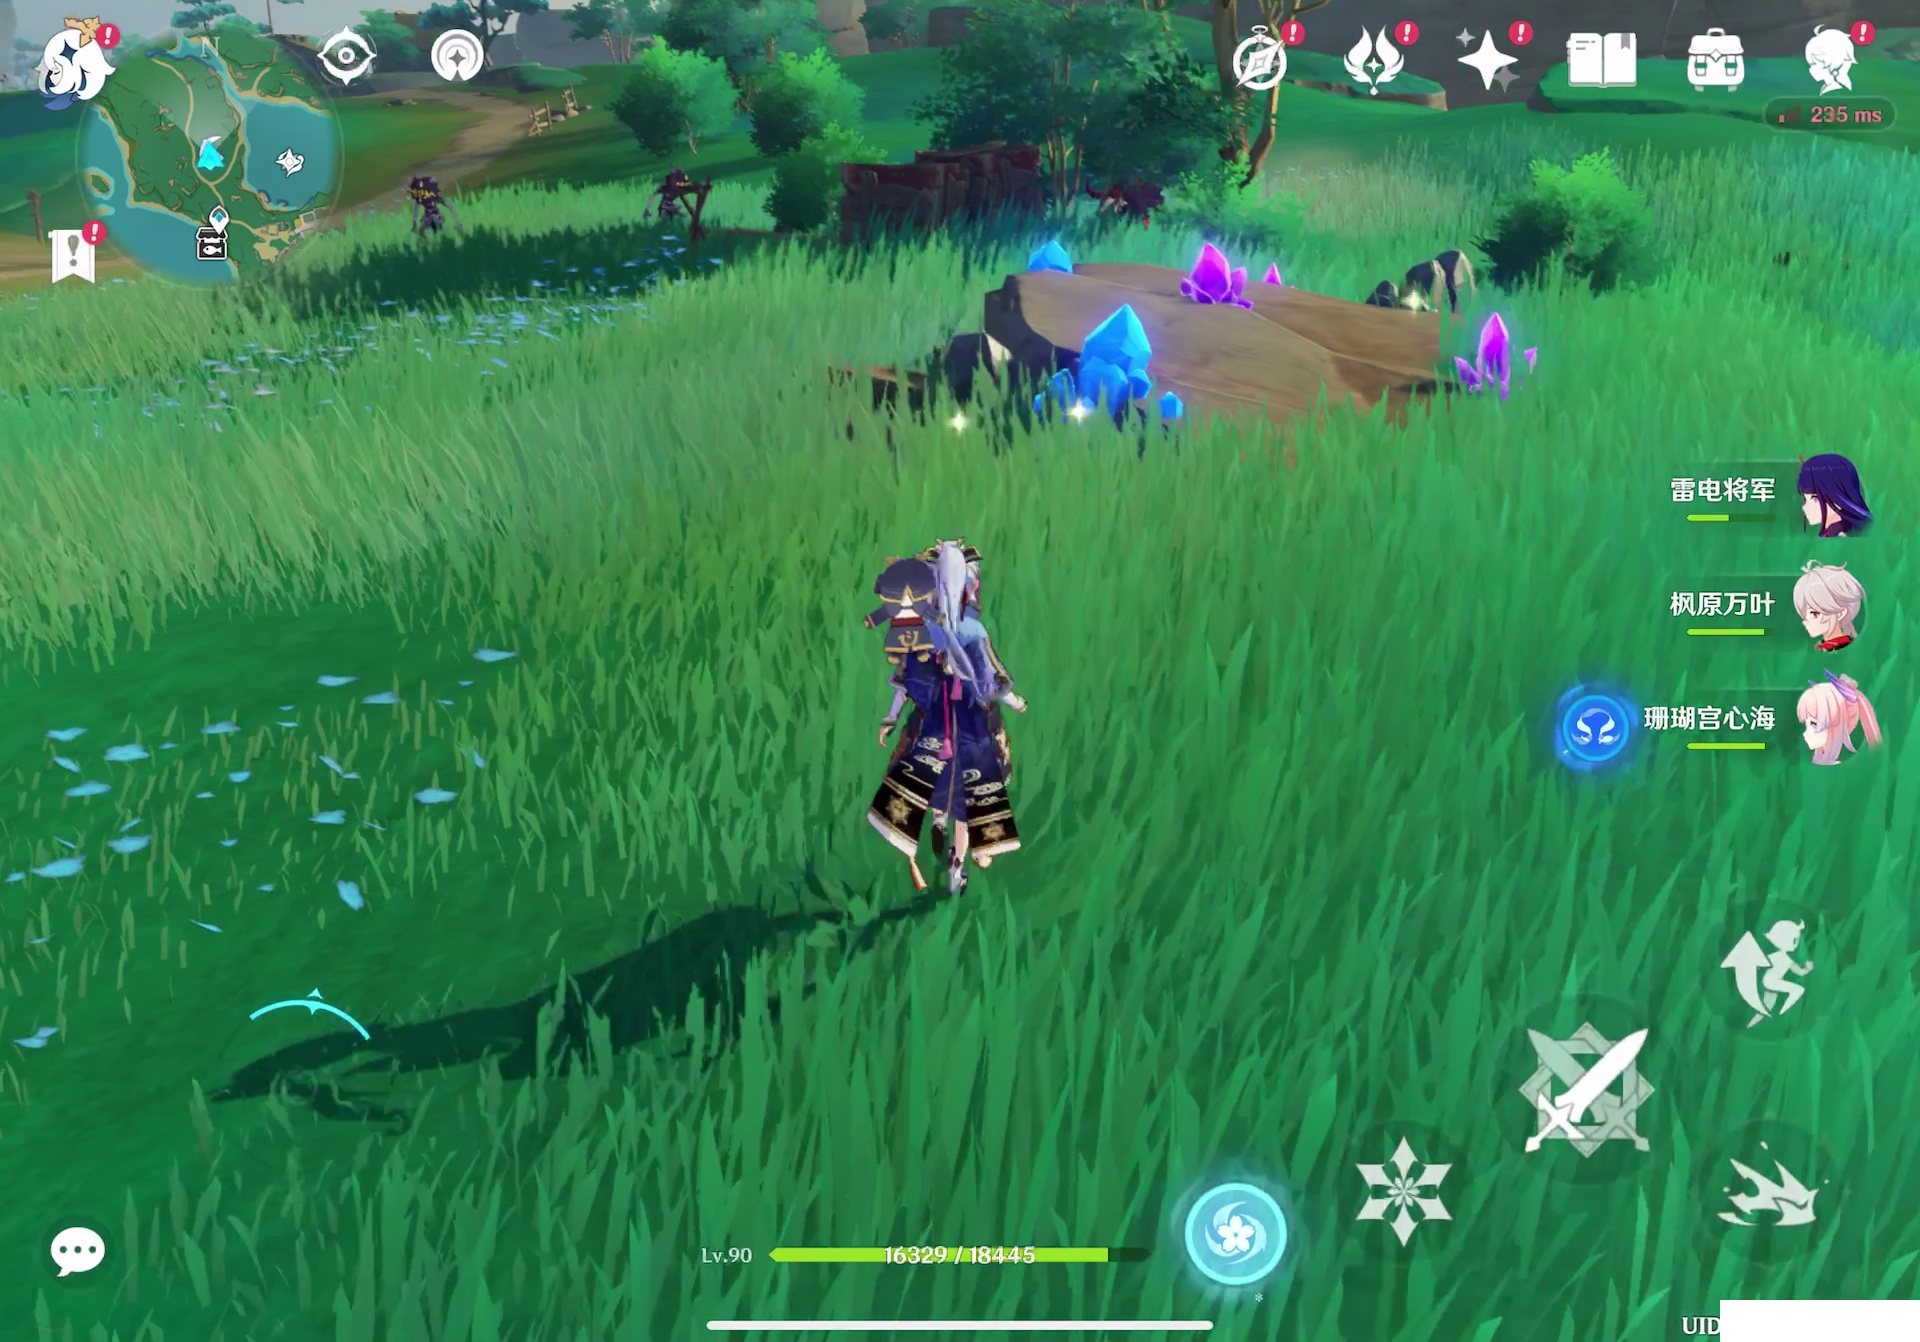丘丘人: (394, 177, 473, 255), (638, 152, 690, 244)
白铁矿石: (910, 335, 1033, 427), (1369, 251, 1482, 311)
神里绫龟: (867, 548, 1049, 903)
紫矿石: (1447, 311, 1547, 406), (1183, 241, 1249, 308)
蓝矿石: (1039, 303, 1193, 438), (1021, 238, 1081, 276)
